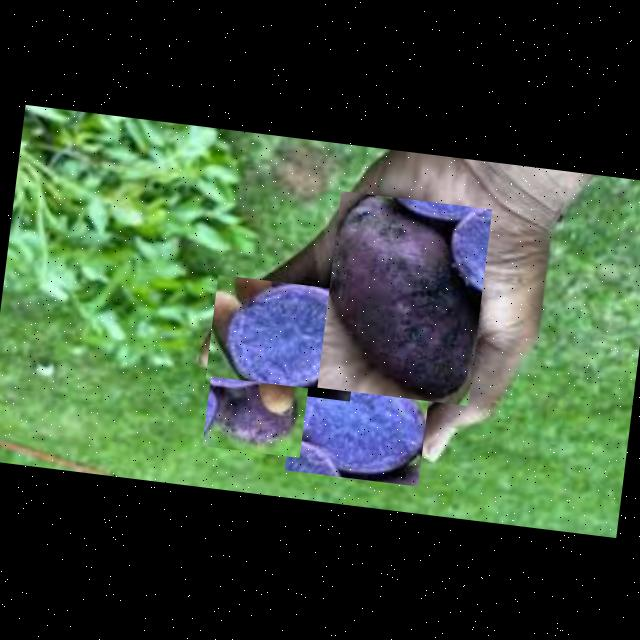Defected potato: (316, 190, 491, 404), (204, 273, 362, 400), (284, 361, 429, 485), (201, 375, 307, 456)
